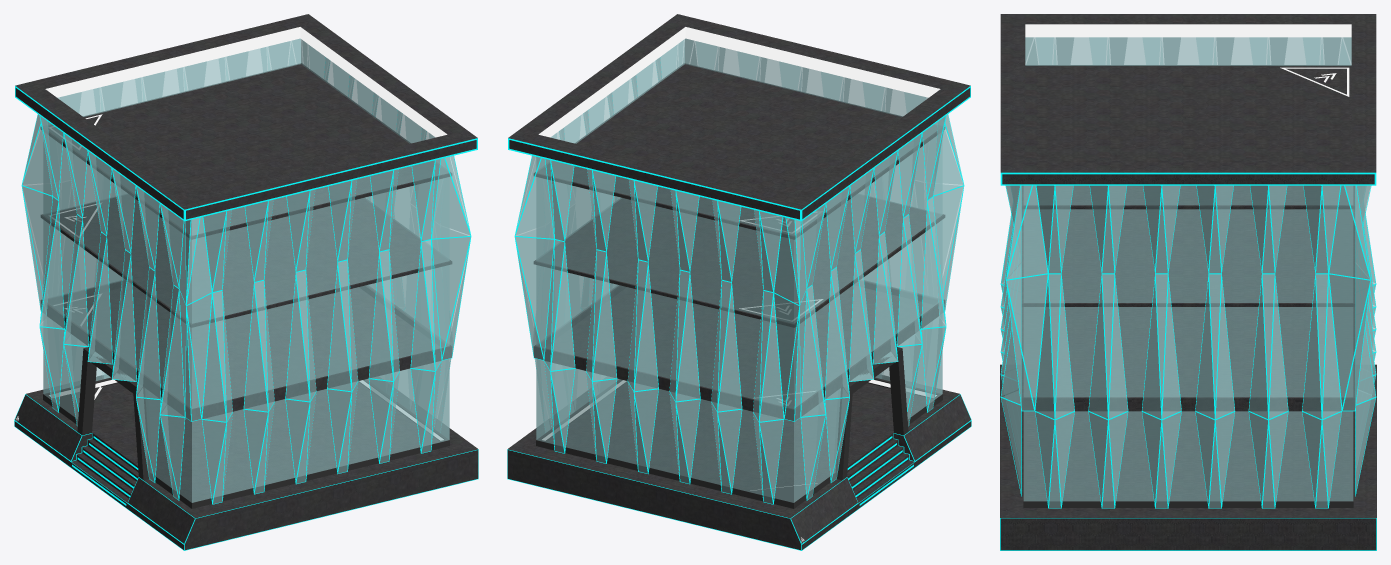
The model's file is Dhingia Builds Blue 1x1.glb.
3 renders of one model, left to right at view 1: azimuth 30°, elevation 25°; view 2: azimuth 150°, elevation 25°; view 3: azimuth 270°, elevation 25°, orthographic. The views are drawn at different scales.
Visible parts, largest first — view 1: Mesh_356, Design 1#1, Mesh_0, Mesh_298, Mesh_101, Mesh_199, Mesh_299, Mesh_357; view 2: Mesh_356, Design 1#1, Mesh_0, Mesh_298, Mesh_101, Mesh_199, Mesh_299, Mesh_357; view 3: Mesh_356, Design 1#1, Mesh_0, Mesh_298, Mesh_101, Mesh_199, Mesh_299, Mesh_357.
Part boxes in pixels (left/top/right/bottom): Mesh_356: left=43, top=38, right=449, bottom=502; Design 1#1: left=21, top=39, right=471, bottom=504; Mesh_0: left=14, top=375, right=478, bottom=550; Mesh_298: left=41, top=63, right=451, bottom=239; Mesh_101: left=41, top=281, right=451, bottom=420; Mesh_199: left=41, top=195, right=451, bottom=327; Mesh_299: left=15, top=14, right=477, bottom=221; Mesh_357: left=43, top=347, right=449, bottom=508; Mesh_356: left=536, top=38, right=942, bottom=502; Design 1#1: left=514, top=39, right=964, bottom=504; Mesh_0: left=507, top=375, right=971, bottom=550; Mesh_298: left=534, top=63, right=944, bottom=239; Mesh_101: left=534, top=281, right=944, bottom=420; Mesh_199: left=534, top=195, right=944, bottom=327; Mesh_299: left=508, top=14, right=970, bottom=221; Mesh_357: left=536, top=347, right=942, bottom=508; Mesh_356: left=1023, top=37, right=1353, bottom=501; Design 1#1: left=1000, top=37, right=1376, bottom=508; Mesh_0: left=1000, top=364, right=1376, bottom=550; Mesh_298: left=1022, top=65, right=1354, bottom=209; Mesh_101: left=1022, top=307, right=1354, bottom=411; Mesh_199: left=1022, top=209, right=1354, bottom=306; Mesh_299: left=1000, top=14, right=1376, bottom=185; Mesh_357: left=1023, top=411, right=1353, bottom=507.
Size of what is drawn, in the model's own units: 16 by 17.7 by 16.
Materials: 6 (1 with a texture image).
